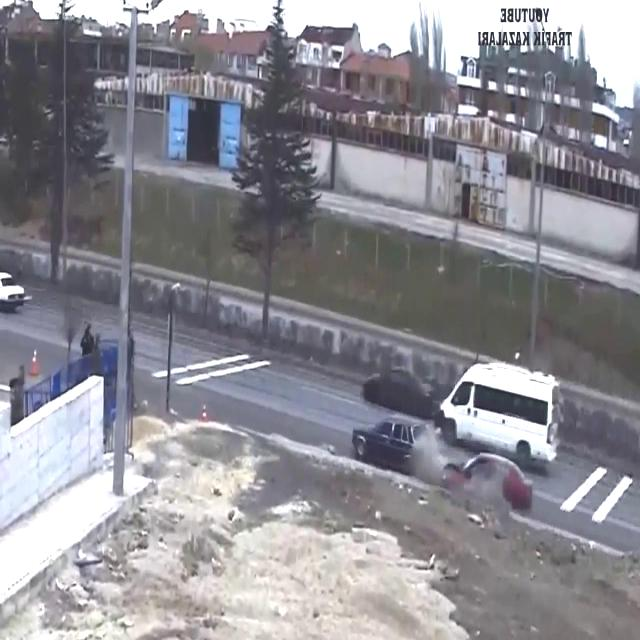accident: (349, 415, 533, 521)
non-accident: (360, 356, 562, 454)
